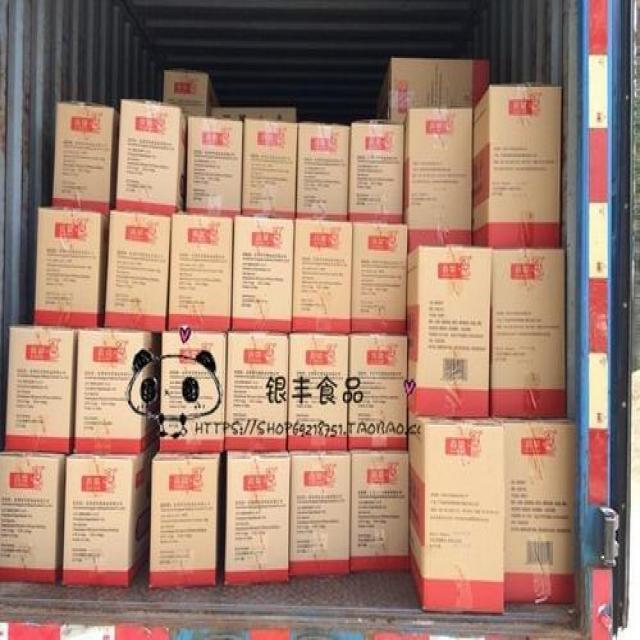box: (411, 408, 506, 617), (407, 247, 500, 430), (502, 415, 582, 613), (470, 83, 560, 247), (489, 242, 568, 421), (63, 455, 147, 593), (73, 320, 150, 457), (146, 452, 220, 594), (4, 325, 79, 455), (408, 106, 473, 250), (0, 457, 71, 586), (350, 448, 418, 582), (36, 207, 107, 334), (287, 446, 350, 586), (110, 94, 182, 214), (349, 331, 416, 459), (227, 452, 290, 588), (230, 214, 303, 331), (383, 49, 492, 127), (221, 330, 290, 453), (105, 213, 176, 330), (290, 327, 349, 459), (173, 215, 235, 337), (50, 94, 110, 218), (349, 219, 409, 338), (162, 335, 222, 454), (181, 109, 243, 221), (238, 116, 301, 220), (294, 113, 350, 225), (350, 119, 408, 225), (296, 224, 349, 338)
